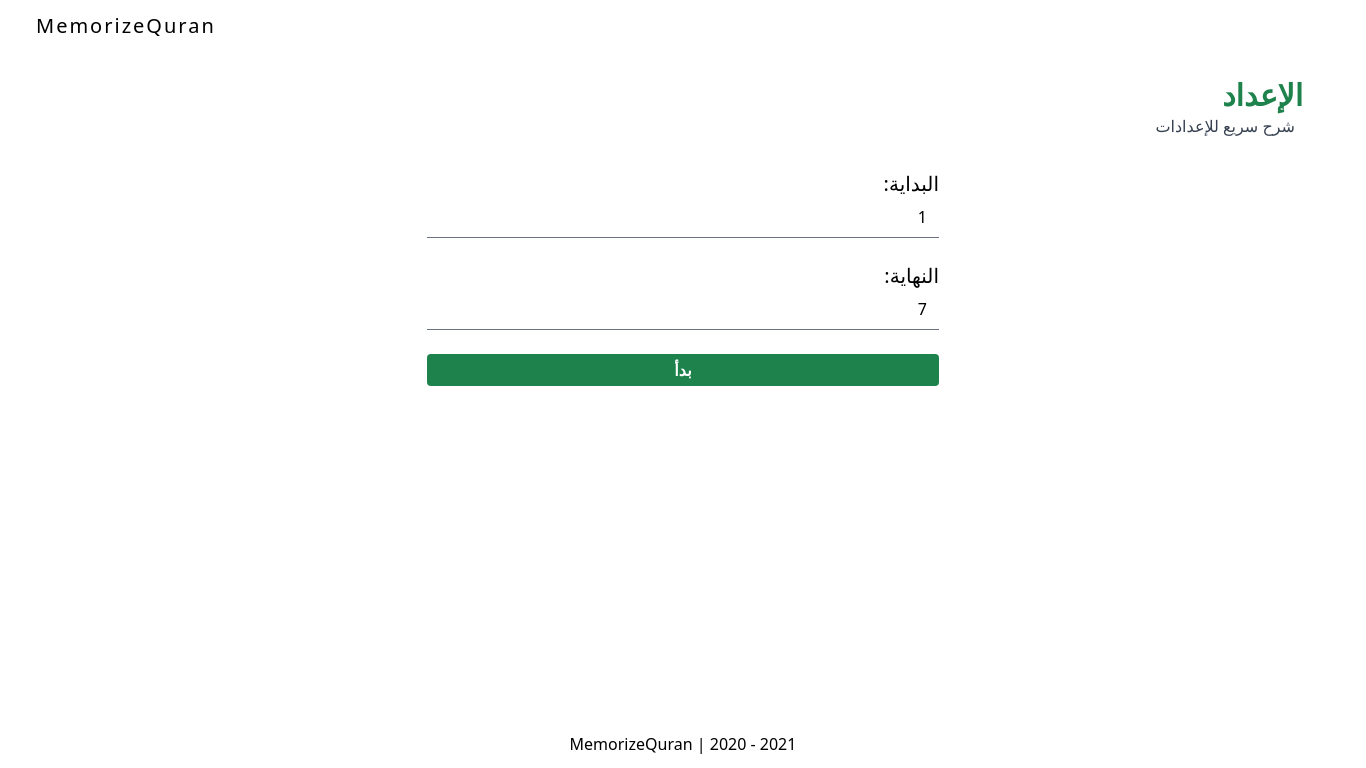
Pretest: Corrent start input
Replace the text in the number field labelled "النهاية:" with "2" at [683, 310], box x1=427 y1=290 x2=939 y2=330
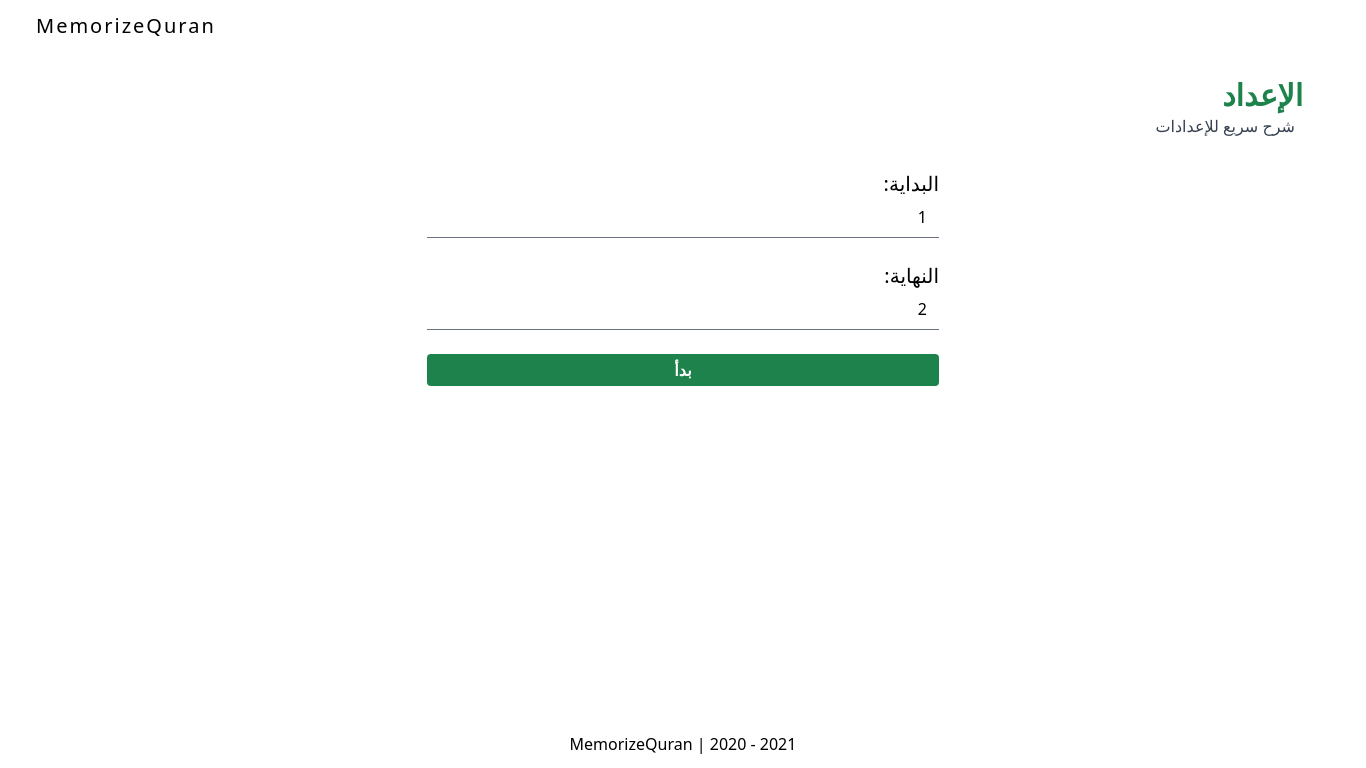
Replace the text in the number field labelled "البداية:" with "3" at [683, 218], box x1=427 y1=198 x2=939 y2=238
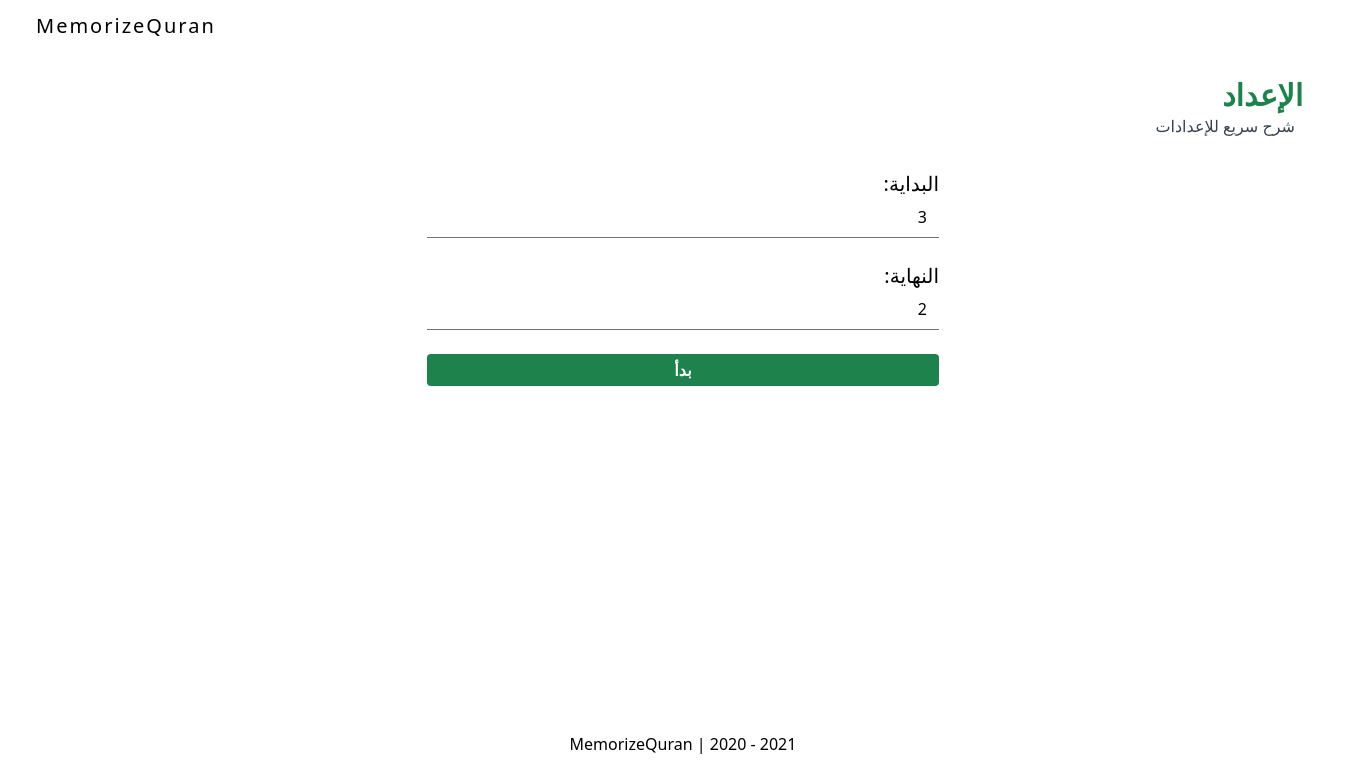
Click the button "بدأ" at [683, 370], box x1=427 y1=354 x2=939 y2=386
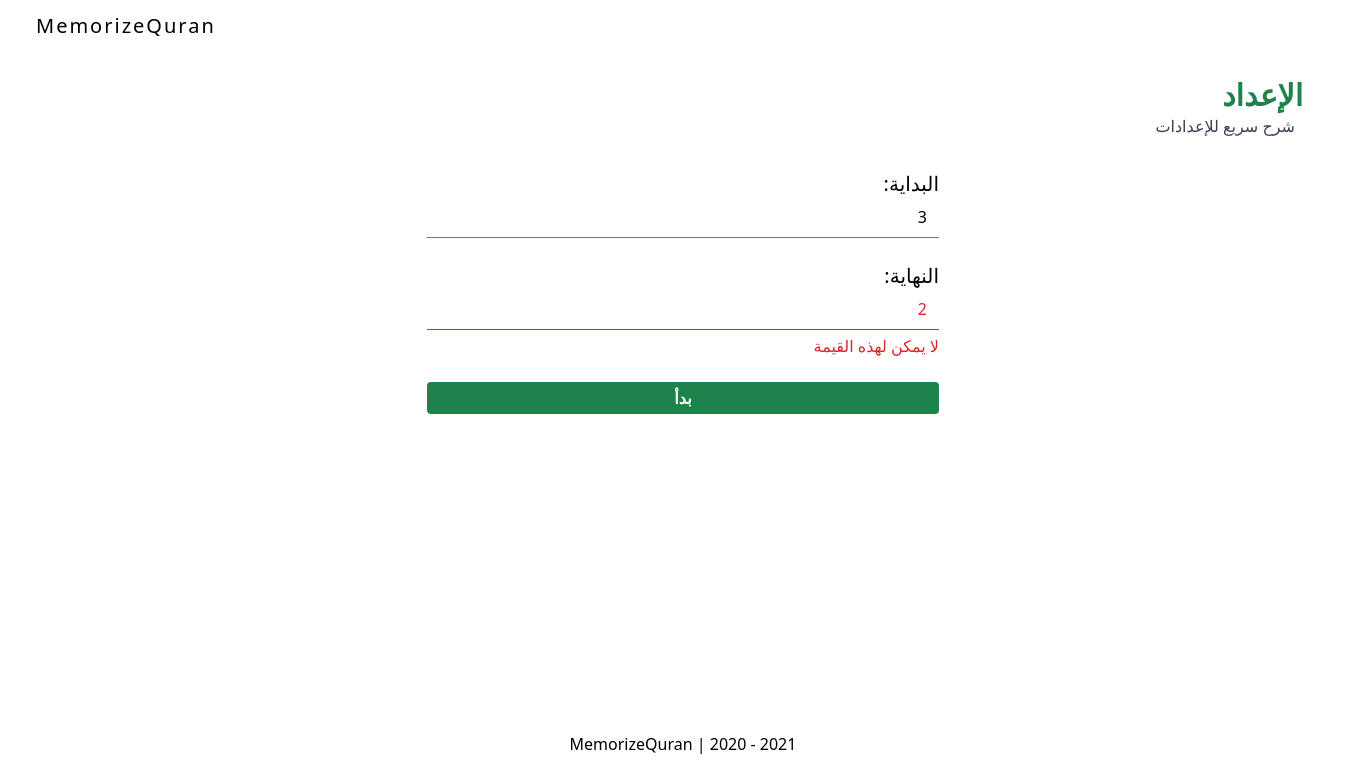
Result: the text "لا يمكن لهذه القيمة" is shown at x1=814 y1=334 x2=939 y2=356
